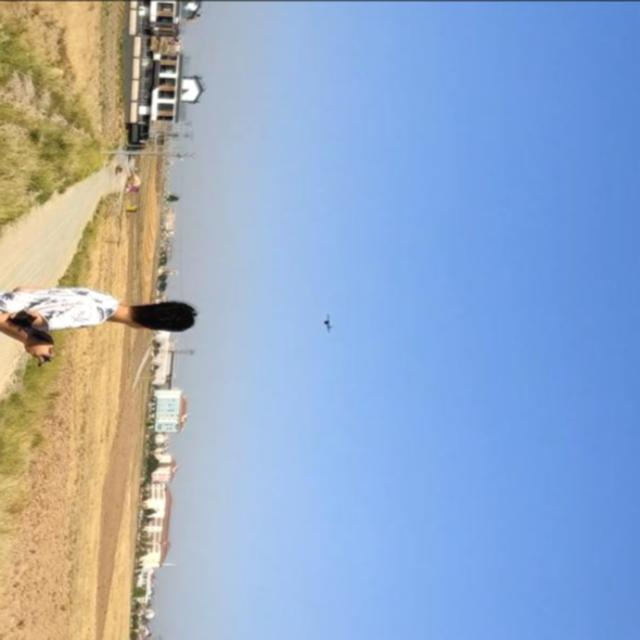plane: (323, 314, 334, 332)
